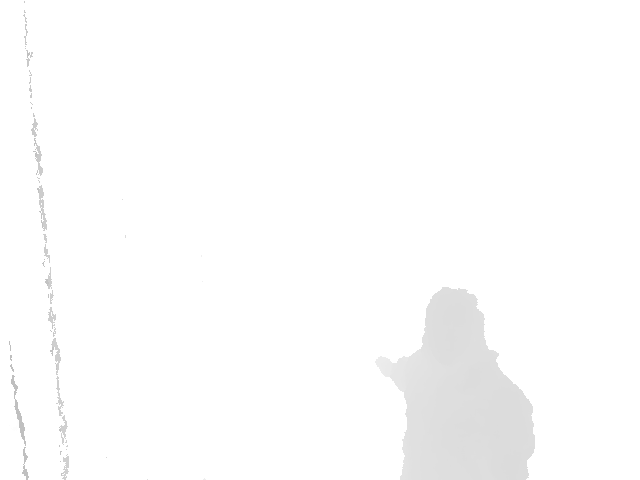head: (421, 288, 487, 374)
person: (376, 289, 535, 480)
